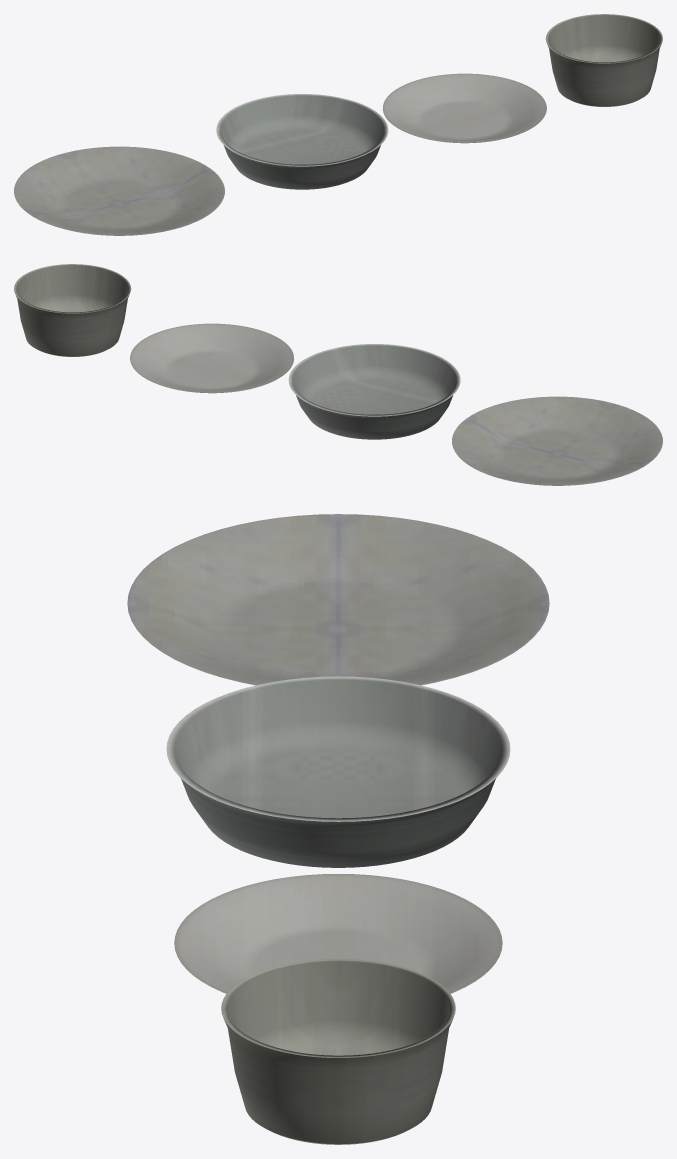
Rendered from FLO-08.glb.
The picture shows the model from 3 angles, top to bottom: view 1: azimuth 30°, elevation 25°; view 2: azimuth 150°, elevation 25°; view 3: azimuth 270°, elevation 25°; orthographic projection. The views are drawn at different scales.
Size of the model in its own units: 0.926 by 0.07 by 0.27.
Materials: 8 (8 with a texture image).
